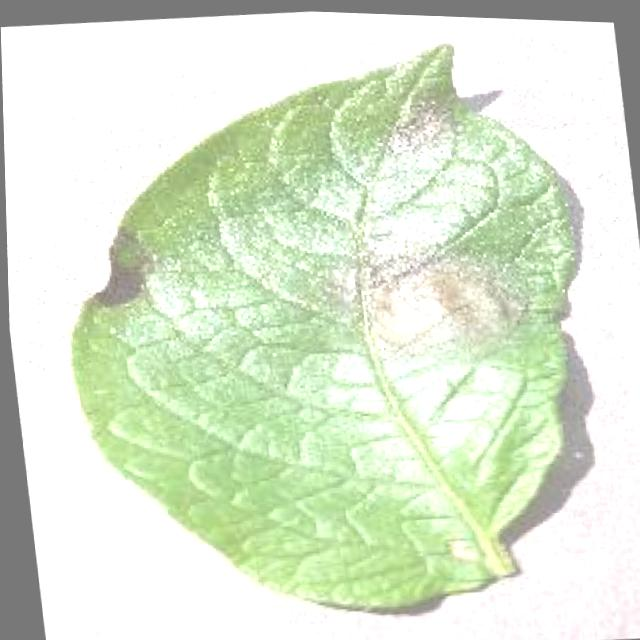Late_blight: (269, 202, 530, 401), (358, 64, 477, 172)
